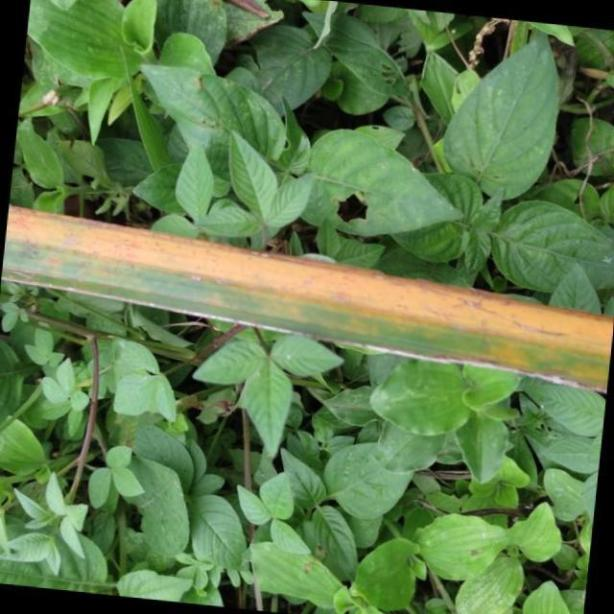Megnesium: (3, 197, 614, 396)
